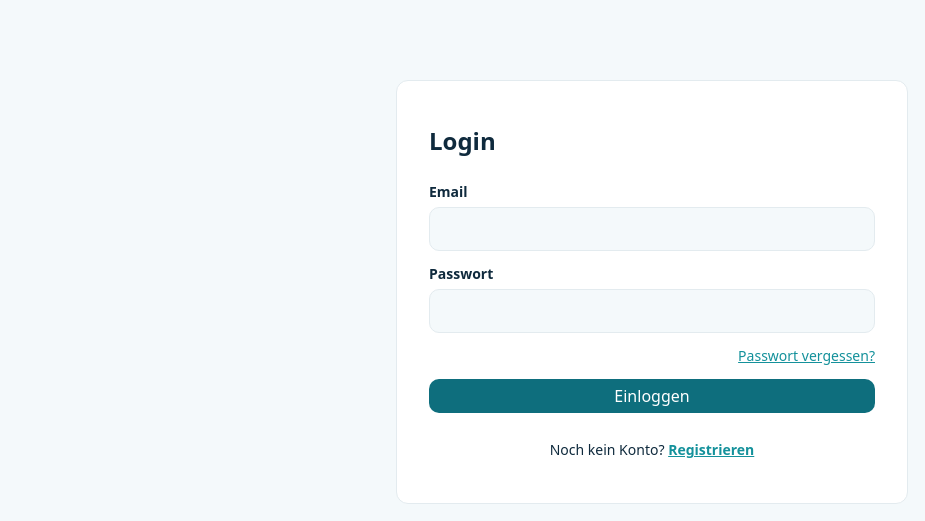
Test: LoginPage › navigates to the forgot-password page
Check: the heading "Login" is shown, box [429,124,496,157]
What coordinates should you click on to do the following:
click the link "Passwort vergessen?"
I would click on:
 (807, 356)
Its box is [738,349,875,363].
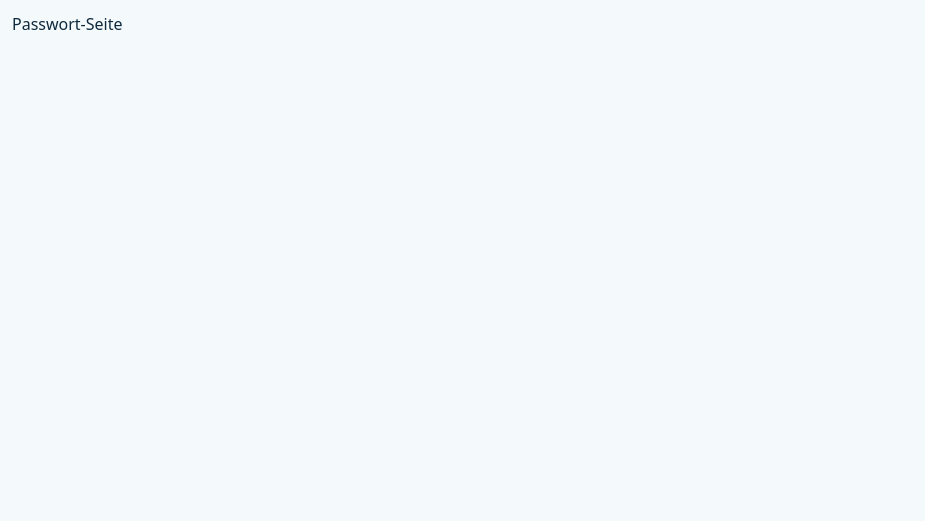
Check: the text "Passwort-Seite" is shown, box [12,13,122,35]
